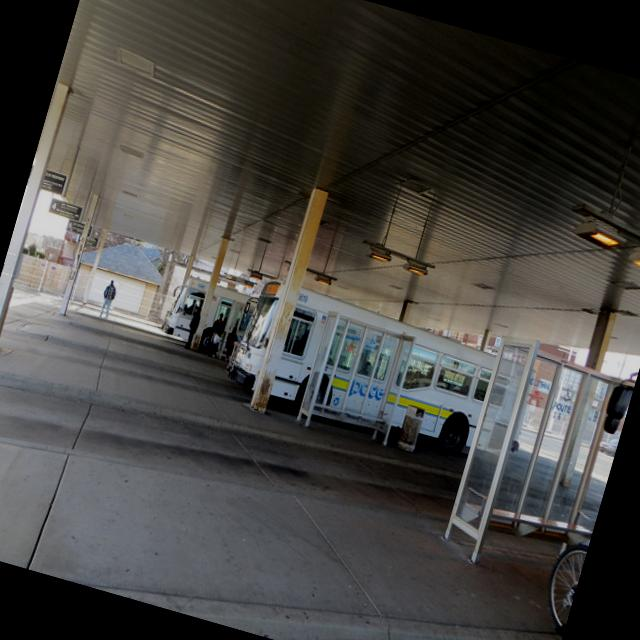Vehicle: (220, 272, 500, 458), (156, 270, 258, 364)
